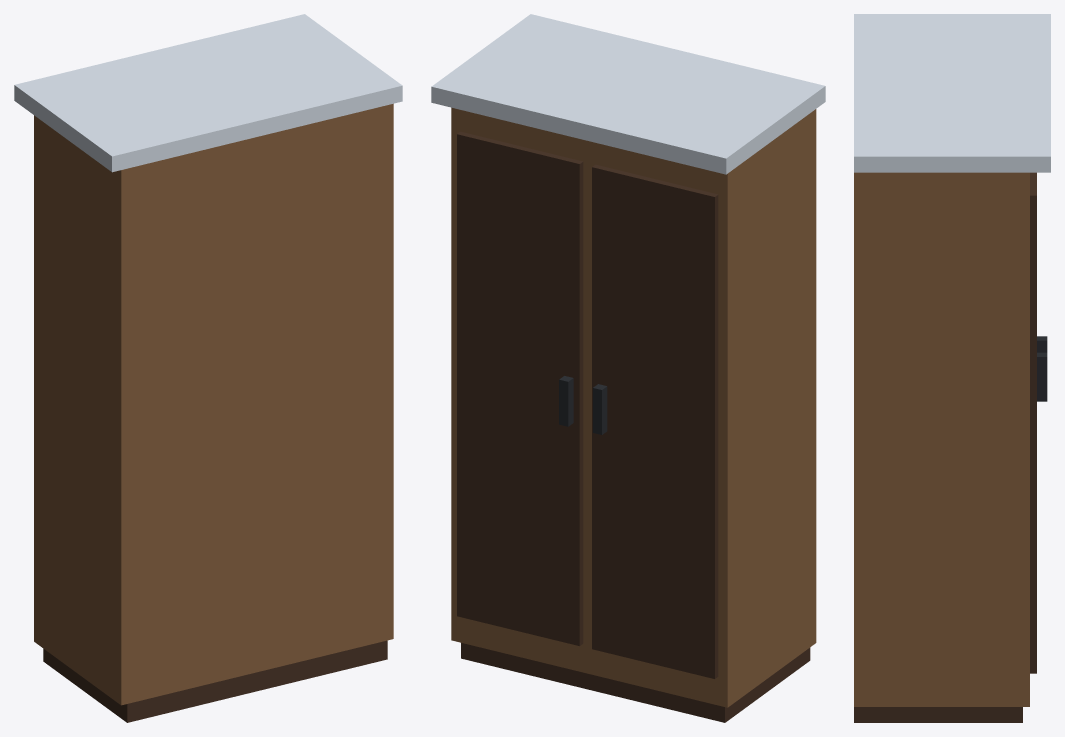
File: cabinet.glb
3 renders of one model, left to right at view 1: azimuth 30°, elevation 25°; view 2: azimuth 150°, elevation 25°; view 3: azimuth 270°, elevation 25°, orthographic.
Parts seen in each view (by area): view 1: Cabinet; view 2: Cabinet; view 3: Cabinet.
Part boxes in pixels (x1,y1,x2,y2): Cabinet: (14, 14, 402, 722); Cabinet: (431, 14, 825, 722); Cabinet: (854, 14, 1050, 722).
Size of the model in its own units: 0.96 by 1.8 by 0.56.
